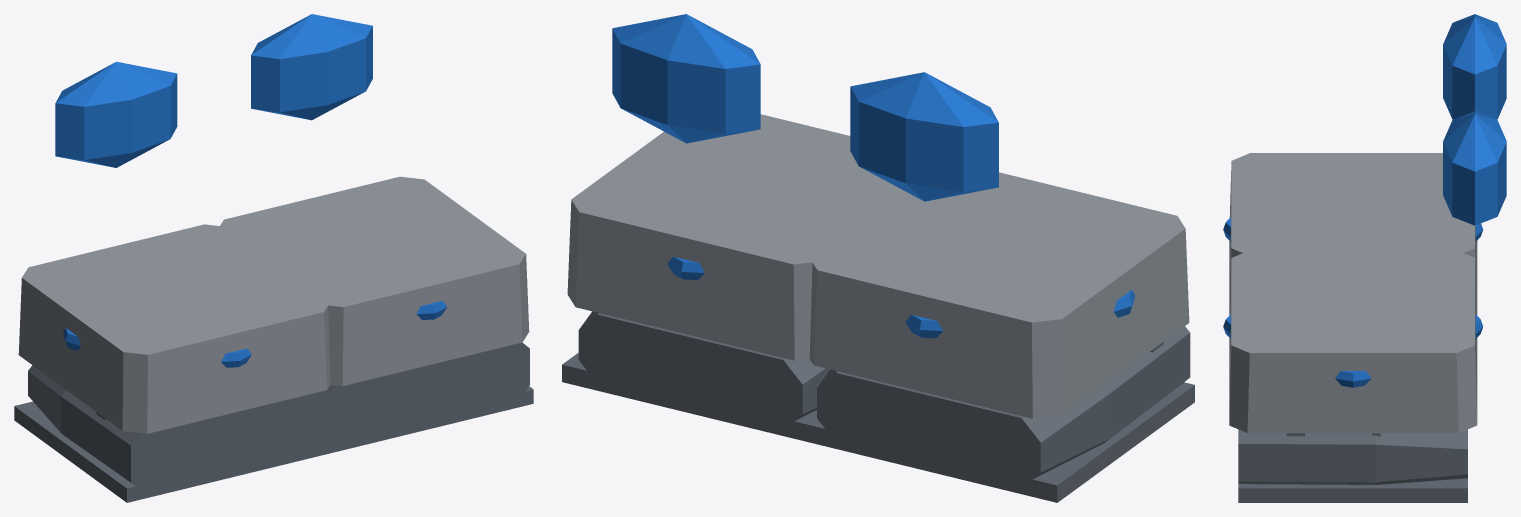
Rendered from shoes_bow_s1.fbx.
The picture shows the model from 3 angles, left to right: view 1: azimuth 30°, elevation 25°; view 2: azimuth 150°, elevation 25°; view 3: azimuth 270°, elevation 25°; orthographic projection. The views are drawn at different scales.
Visible parts, largest first — view 1: Greave_L_Body, Greave_R_Body, Boot_L_Inner, Boot_R_Inner, Greave_L_Band, Greave_R_Band; view 2: Greave_L_Body, Greave_R_Body, Boot_L_Inner, Boot_R_Inner, Greave_L_Band, Greave_R_Band; view 3: Greave_R_Body, Greave_L_Body, Boot_R_Inner, Greave_R_Band, Greave_L_Band.
Boxes of the visible parts, left/top/right/bottom form: Greave_L_Body: left=18, top=224, right=330, bottom=433; Greave_R_Body: left=220, top=176, right=529, bottom=386; Boot_L_Inner: left=14, top=365, right=338, bottom=502; Boot_R_Inner: left=326, top=342, right=533, bottom=451; Greave_L_Band: left=55, top=61, right=251, bottom=367; Greave_R_Band: left=251, top=14, right=447, bottom=319; Greave_L_Body: left=809, top=172, right=1189, bottom=418; Greave_R_Body: left=567, top=114, right=911, bottom=360; Boot_L_Inner: left=811, top=326, right=1194, bottom=502; Boot_R_Inner: left=562, top=311, right=830, bottom=444; Greave_L_Band: left=850, top=72, right=1135, bottom=338; Greave_R_Band: left=612, top=14, right=760, bottom=280; Greave_R_Body: left=1229, top=250, right=1477, bottom=433; Greave_L_Body: left=1229, top=153, right=1477, bottom=315; Boot_R_Inner: left=1238, top=429, right=1467, bottom=502; Greave_R_Band: left=1223, top=111, right=1506, bottom=387; Greave_L_Band: left=1223, top=14, right=1506, bottom=241.
Size of the model in its own units: 213 by 162 by 123.
